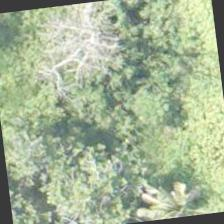Kelapa_Sawit: (119, 154, 216, 224)
